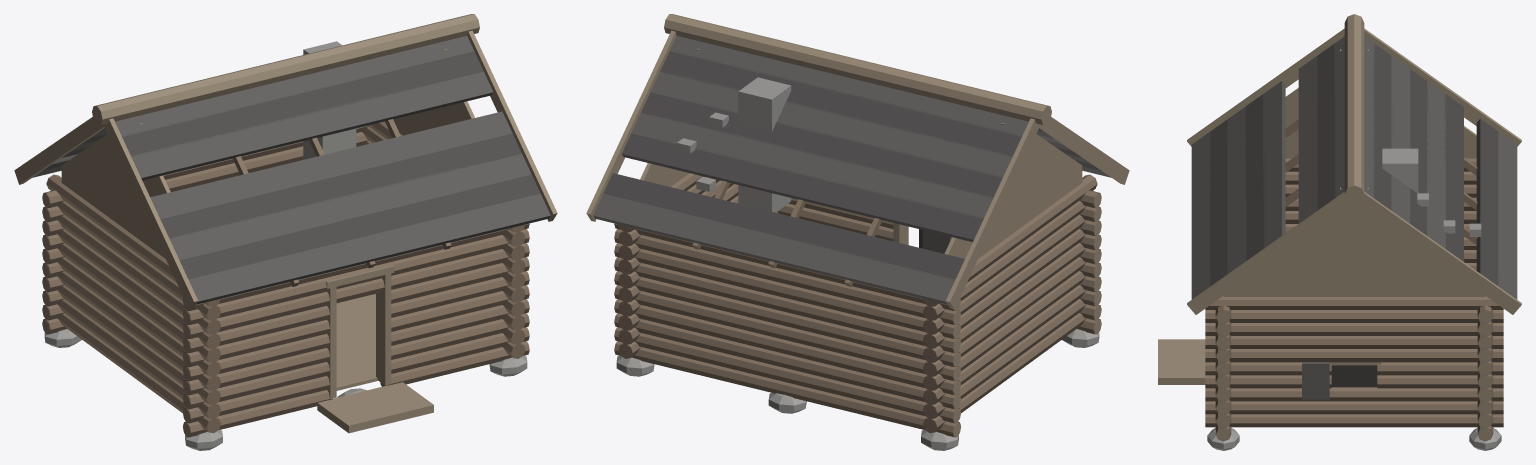
The model's file is IzbaC.fbx.
3 renders of one model, left to right at view 1: azimuth 30°, elevation 25°; view 2: azimuth 150°, elevation 25°; view 3: azimuth 270°, elevation 25°, orthographic. The views are drawn at different scales.
Visible parts, largest first — view 1: IzbaC; view 2: IzbaC; view 3: IzbaC.
Boxes of the visible parts, x1=… form: IzbaC: x1=14, y1=14, x2=557, y2=450; IzbaC: x1=586, y1=14, x2=1129, y2=450; IzbaC: x1=1158, y1=14, x2=1521, y2=450.
Bounding box in the file's own units: 620 × 470 × 556.
